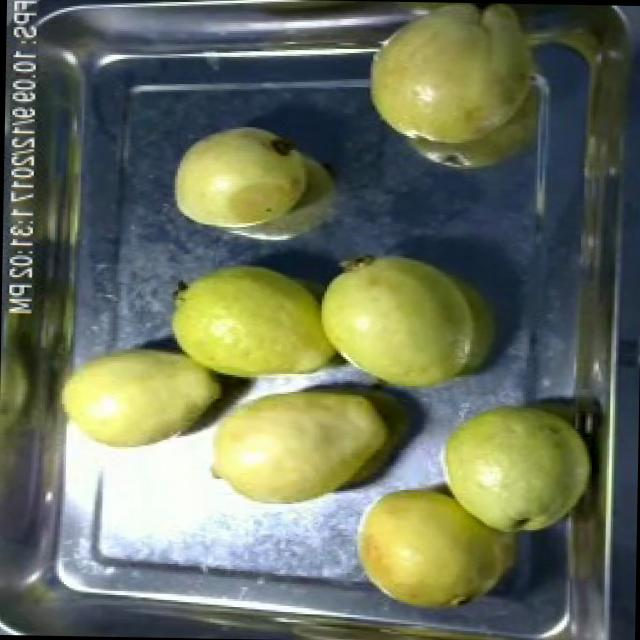Fruit: (195, 374, 421, 522), (304, 246, 502, 401), (355, 0, 536, 160), (340, 474, 526, 622), (156, 253, 346, 394), (428, 390, 604, 541), (50, 332, 230, 464), (162, 119, 316, 240)
